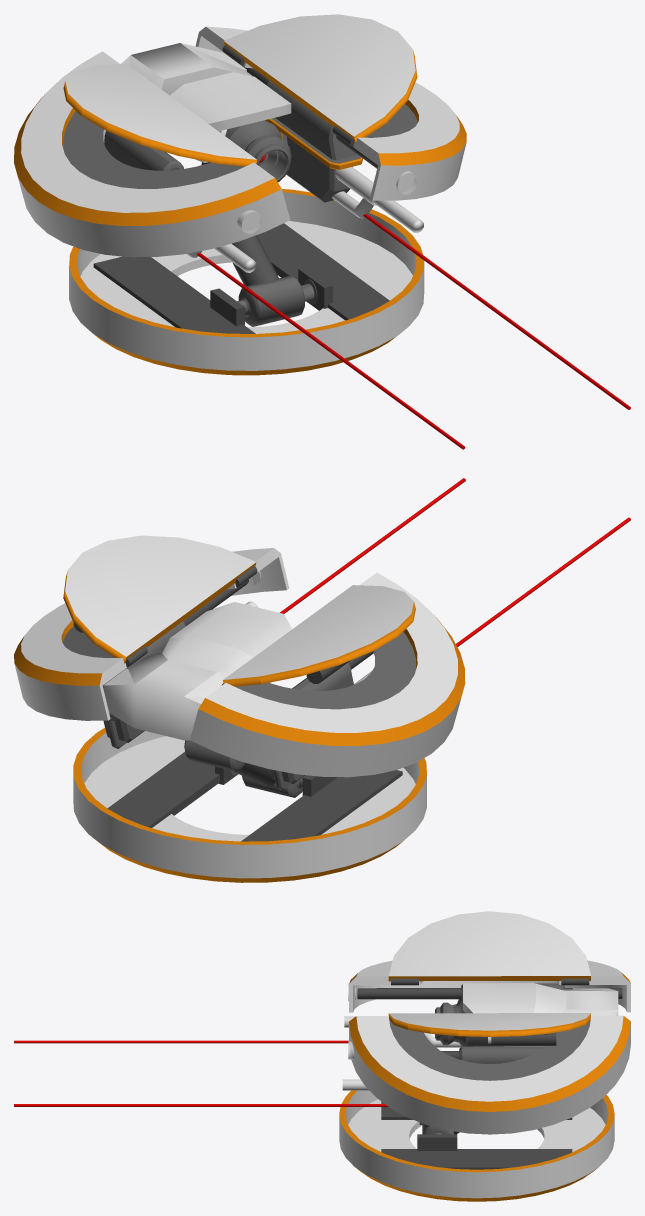
The model's file is roomba test (1).fbx.
3 renders of one model, top to bottom at view 1: azimuth 30°, elevation 25°; view 2: azimuth 150°, elevation 25°; view 3: azimuth 270°, elevation 25°, orthographic. The views are drawn at different scales.
Parts seen in each view (by area): view 1: bottom_shell, polySurface47, polySurface46, polySurface45, polySurface48, pCube6, pCube9, polySurface50, pCube8, pCylinder64, polySurface36, polySurface55 (+7 smaller); view 2: polySurface47, bottom_shell, polySurface46, pCube6, polySurface48, polySurface45, pCube9, pCube8, polySurface55, polySurface50, pCylinder87, pCylinder88 (+2 smaller); view 3: polySurface48, bottom_shell, polySurface45, pCube6, polySurface46, polySurface47, pCube8, polySurface54, pCylinder88, polySurface50, pCylinder87, polySurface36 (+2 smaller).
Boxes of the visible parts, <box> form: bottom_shell: <box>69,189,424,375</box>; polySurface47: <box>14,51,290,257</box>; polySurface46: <box>223,14,417,143</box>; polySurface45: <box>63,64,257,166</box>; polySurface48: <box>195,26,466,200</box>; pCube6: <box>121,43,291,162</box>; pCube9: <box>93,256,255,333</box>; polySurface50: <box>265,80,362,202</box>; pCube8: <box>257,223,389,320</box>; pCylinder64: <box>237,275,317,326</box>; polySurface36: <box>225,120,291,182</box>; polySurface55: <box>104,130,183,170</box>; polySurface47: <box>190,572,465,777</box>; bottom_shell: <box>73,728,426,882</box>; polySurface46: <box>63,535,256,663</box>; pCube6: <box>103,602,292,740</box>; polySurface48: <box>14,548,289,720</box>; polySurface45: <box>223,585,415,686</box>; pCube9: <box>241,770,402,841</box>; pCube8: <box>107,752,219,827</box>; polySurface55: <box>270,663,353,790</box>; polySurface50: <box>103,621,185,748</box>; pCylinder87: <box>280,478,465,613</box>; pCylinder88: <box>456,517,630,646</box>; polySurface48: <box>349,1015,630,1134</box>; bottom_shell: <box>339,1090,614,1201</box>; polySurface45: <box>388,911,590,981</box>; pCube6: <box>463,982,618,1046</box>; polySurface46: <box>388,1013,590,1036</box>; polySurface47: <box>349,960,630,1012</box>; pCube8: <box>381,1149,572,1169</box>; polySurface54: <box>357,988,622,999</box>; pCylinder88: <box>14,1040,348,1043</box>; polySurface50: <box>459,1046,544,1063</box>; pCylinder87: <box>14,1104,388,1106</box>; polySurface36: <box>435,1000,503,1046</box>.
Size of the model in its own units: 94.98 by 51.31 by 162.
